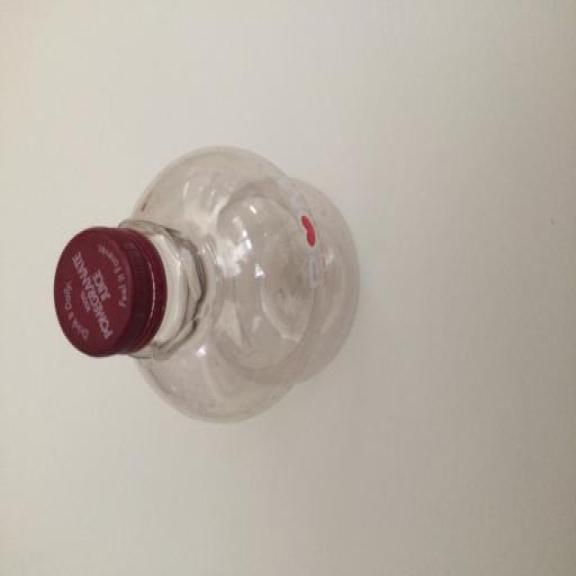Plastik: (50, 138, 369, 432)
